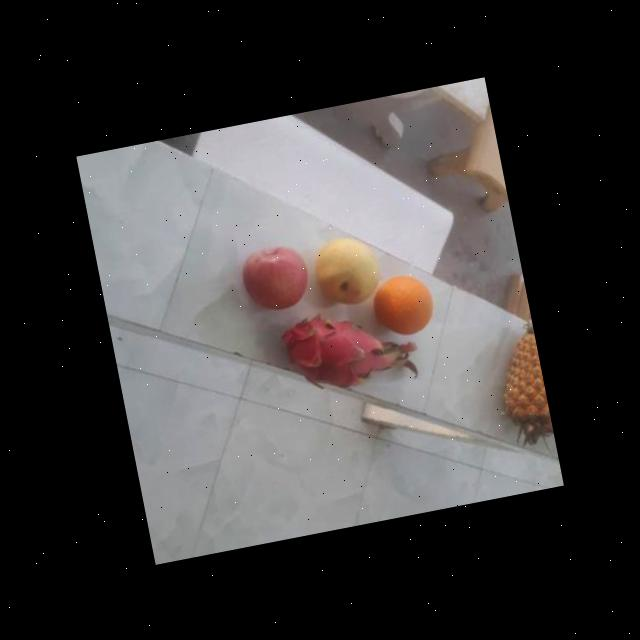apple: (237, 238, 315, 318)
orange: (370, 266, 439, 341)
pear: (309, 228, 386, 310)
pitaya: (277, 297, 399, 397)
